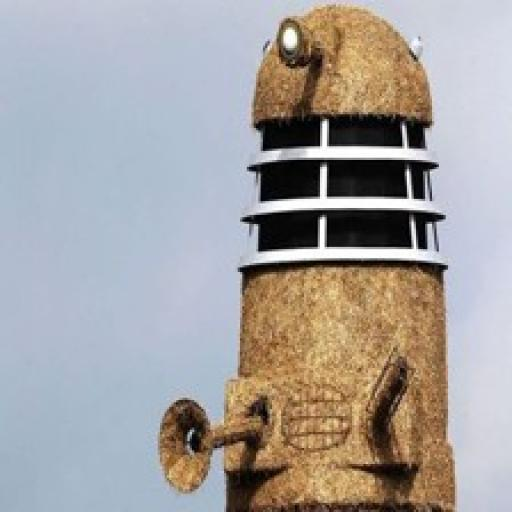dalek: (160, 1, 456, 512)
